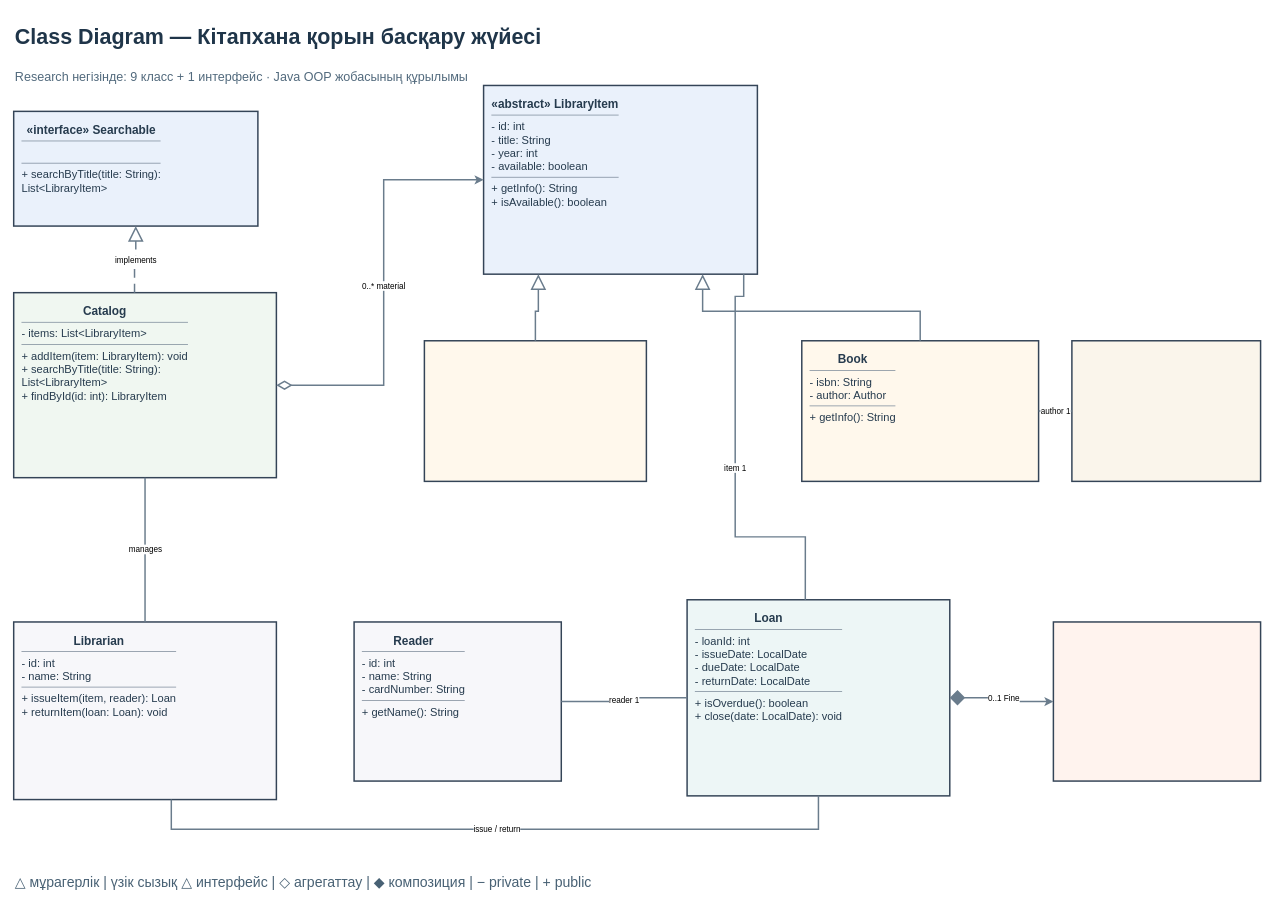
The diagram is 1274 pixels wide and 913 high, and some of its shapes have lost their labels. Each missing label, with the centre of its shape:
Author - id: int - name: String + getName(): String: the point at 1166,411
Fine - amount: double - daysLate: int + calculate(daysLate: int): double: the point at 1156,701
Magazine - issueNumber: int + getInfo(): String: the point at 535,411
